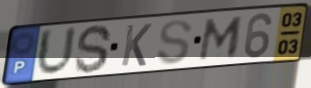6: (242, 11, 274, 60)
K: (119, 22, 154, 68)
M: (196, 15, 246, 63)
S: (73, 23, 114, 75), (154, 18, 195, 67)
U: (35, 24, 79, 78)
